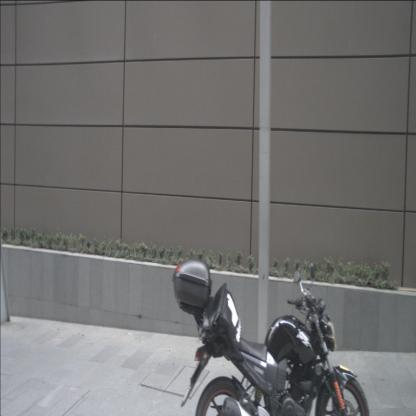vehicle-motorcycle: (172, 259, 370, 415)
